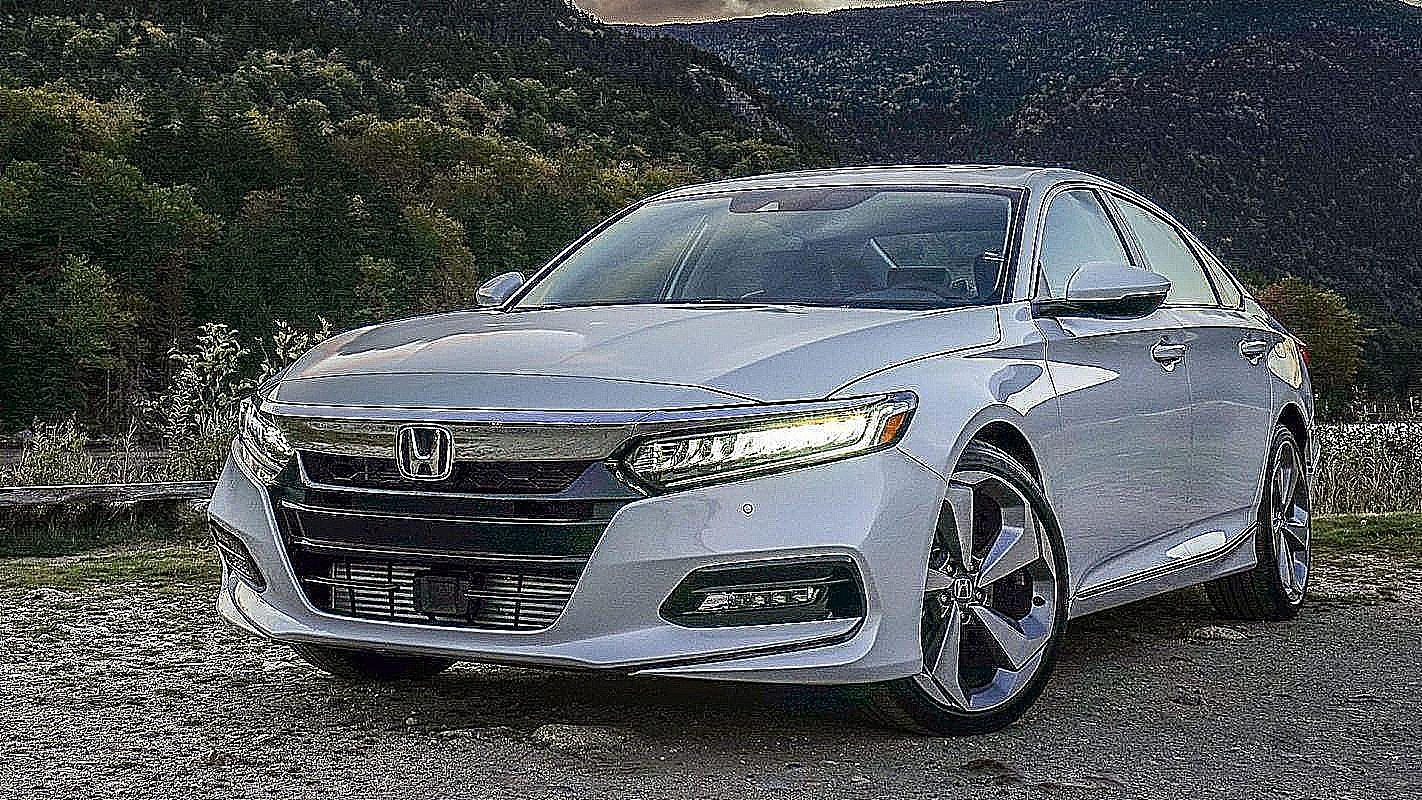Car hood: (257, 300, 1005, 429)
Fender - -F-L-: (829, 300, 1072, 625)
Fender - -R-L-: (1247, 305, 1306, 574)
Front bumper: (197, 459, 949, 703)
Headlight - -L-: (587, 380, 926, 514)
Headlight - -R-: (227, 385, 309, 478)
Passenger-s door - -F-L-: (1044, 167, 1194, 602)
Passenger-s door - -R-L-: (1156, 202, 1289, 557)
Rear bumper: (1297, 407, 1350, 499)
Rear light - -L-: (1284, 327, 1328, 370)
Side bumper - -L-: (1060, 522, 1273, 629)
Side mirror - -L-: (1035, 249, 1179, 331)
Side mirror - -R-: (465, 262, 532, 314)
